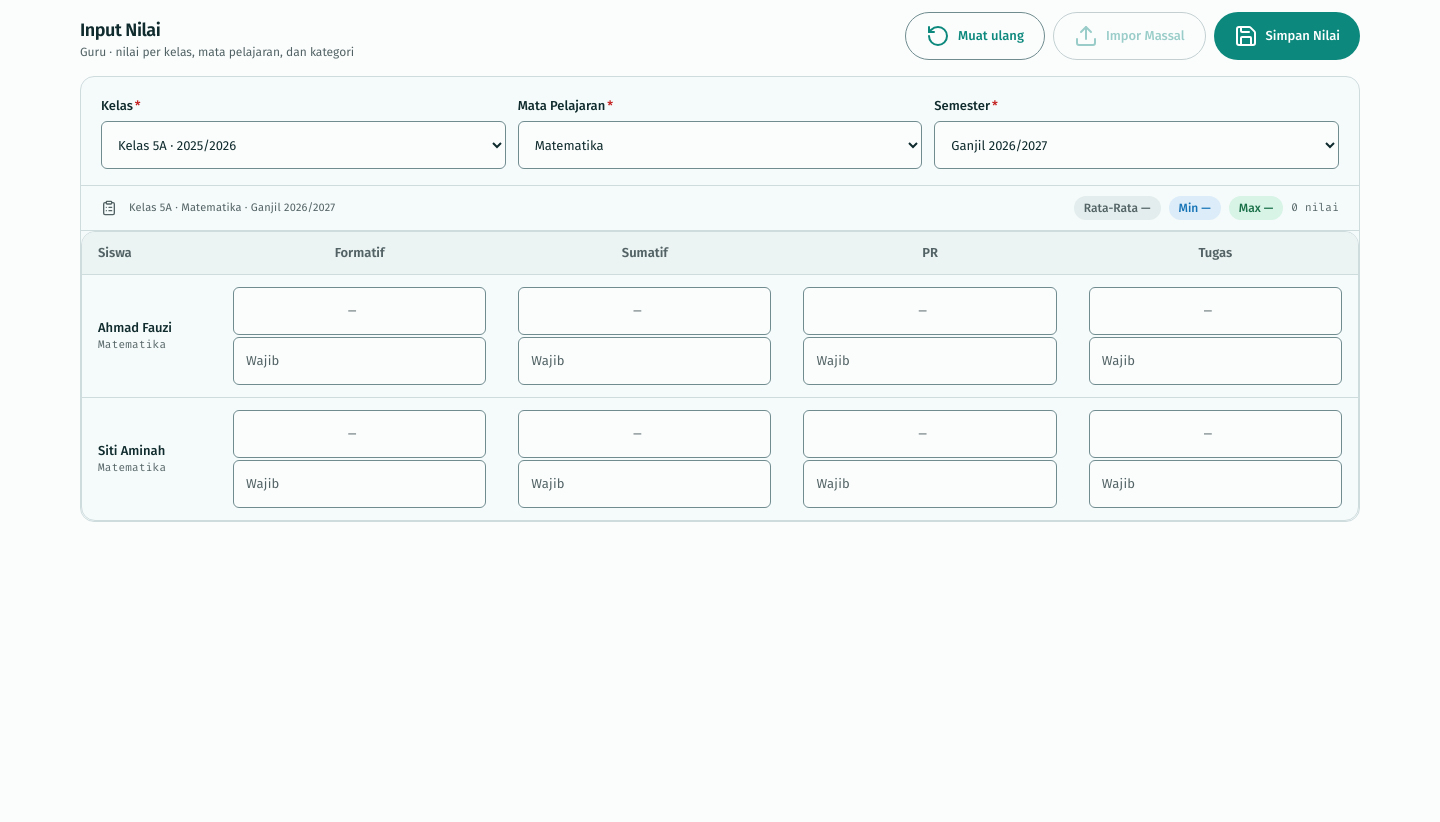
Test: GradesPage › requires a description for TK/SD tenants and shows an inline error
Expected: the text "Ahmad Fauzi" is shown, [98,320,172,335]
In the number field named "Formatif Ahmad Fauzi": [360, 311] box [233,287,486,335], type "80"
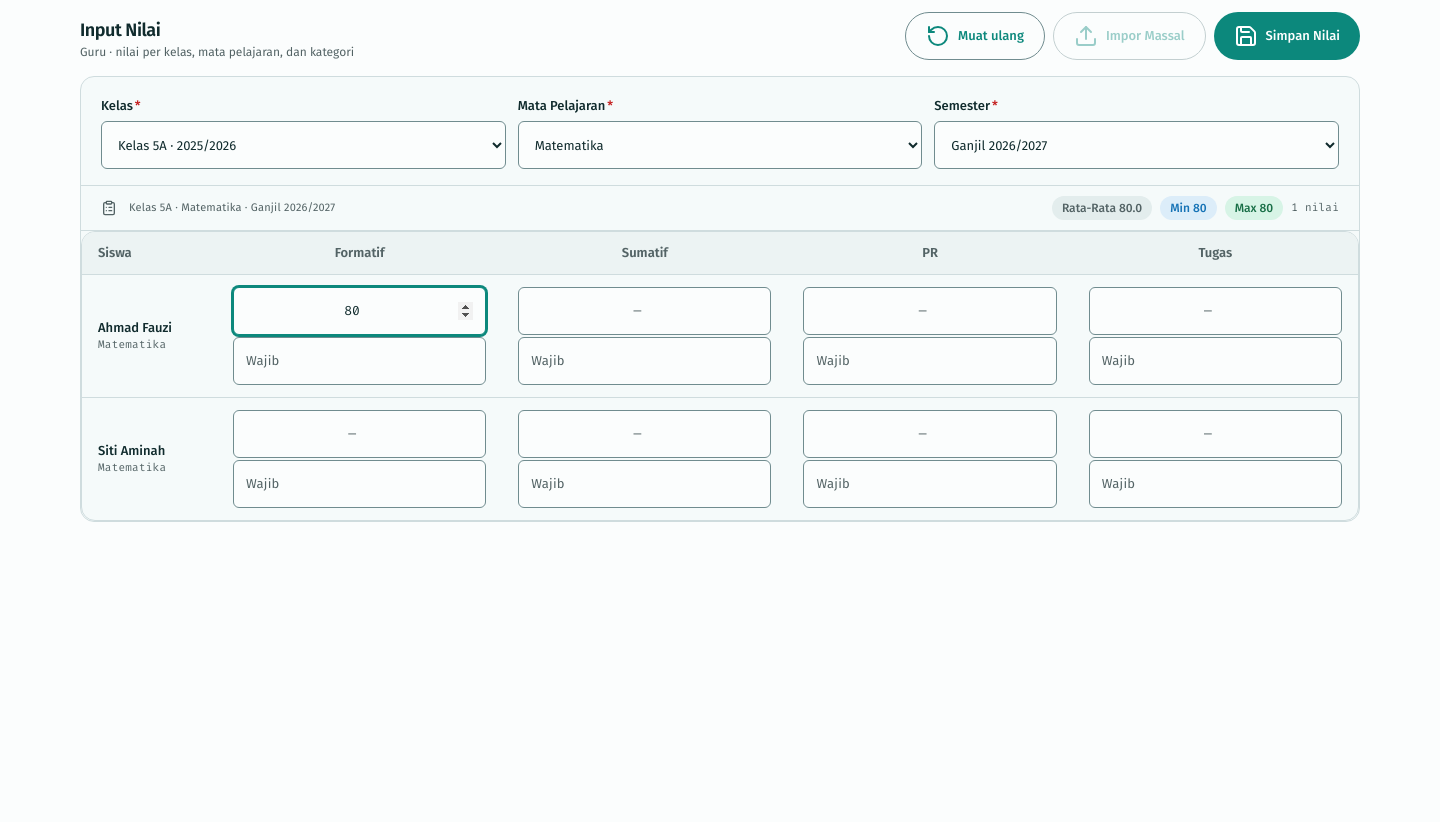
Click the button "Simpan Nilai": [1287, 36] box [1214,12,1360,60]
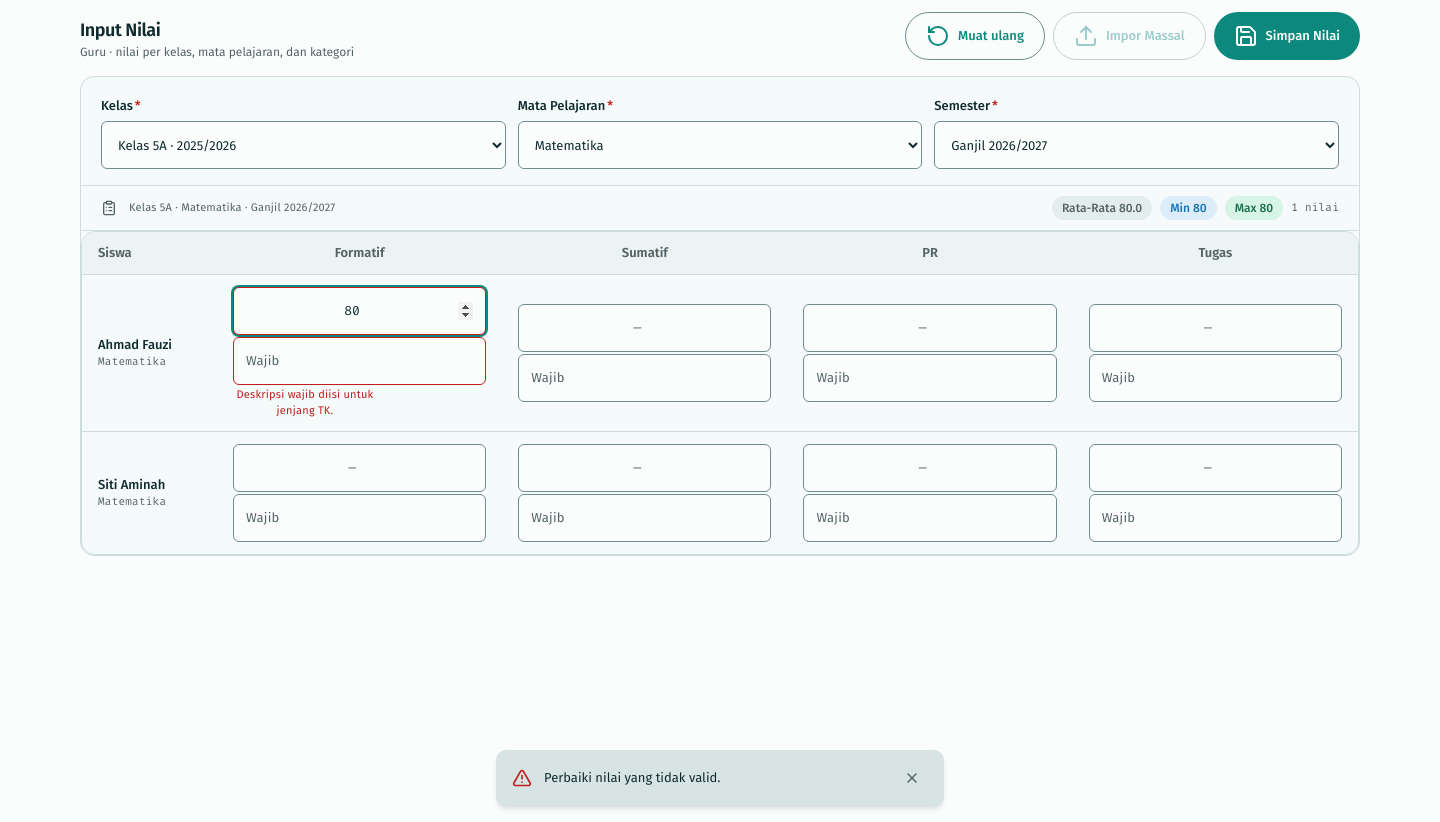
Expected: the text "Deskripsi wajib diisi untuk jenjang TK." is shown, [233,387,377,419]
